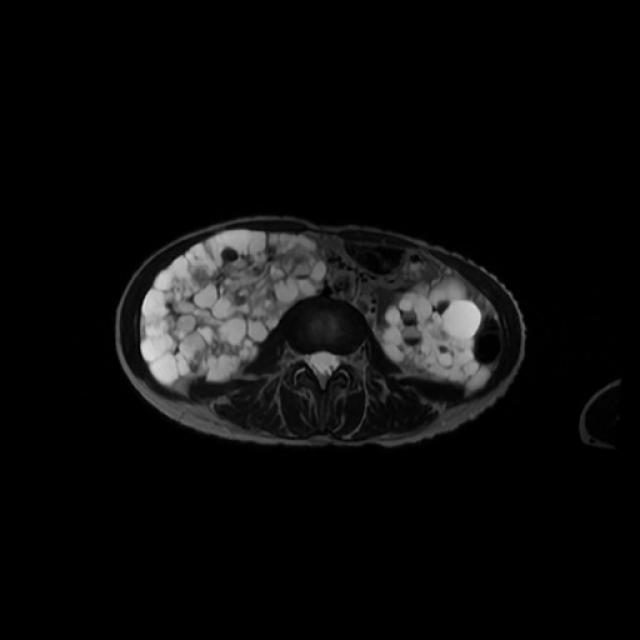sag: (139, 230, 328, 396)
sol: (376, 271, 494, 394)
